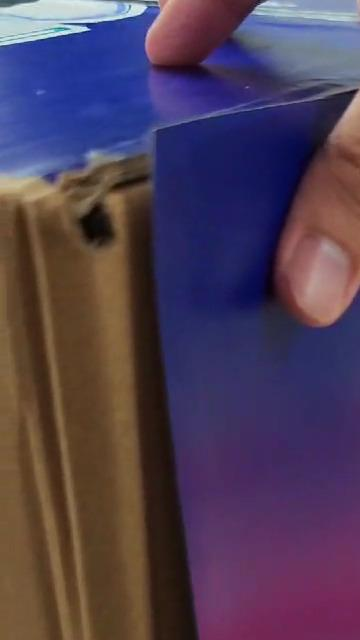B_R1: (277, 349, 360, 640)
